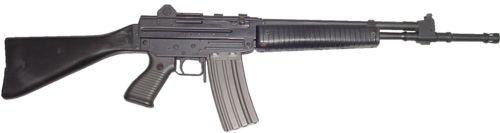gun: (17, 4, 494, 132)
